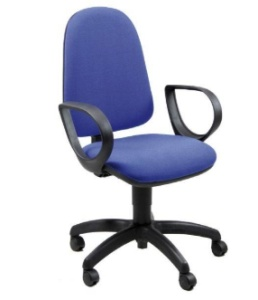chair: (57, 6, 229, 292)
